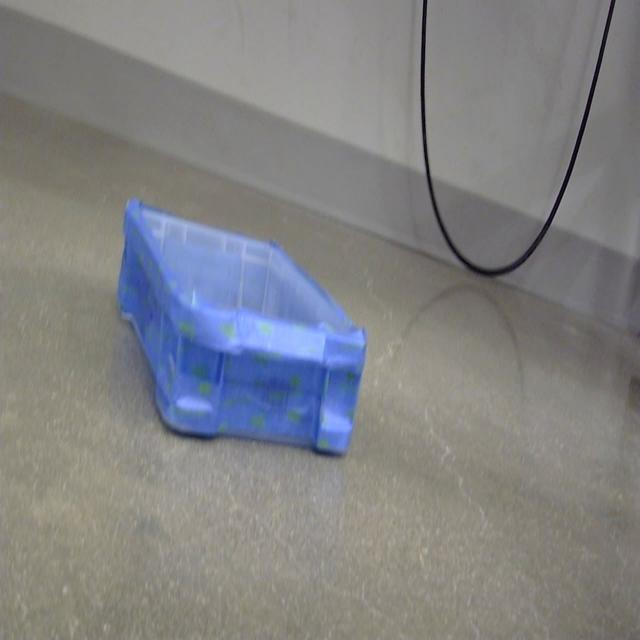bucket: (116, 200, 368, 460)
